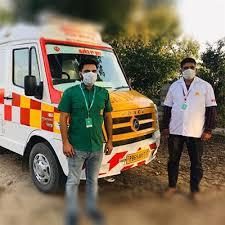ER: (0, 16, 160, 195)
